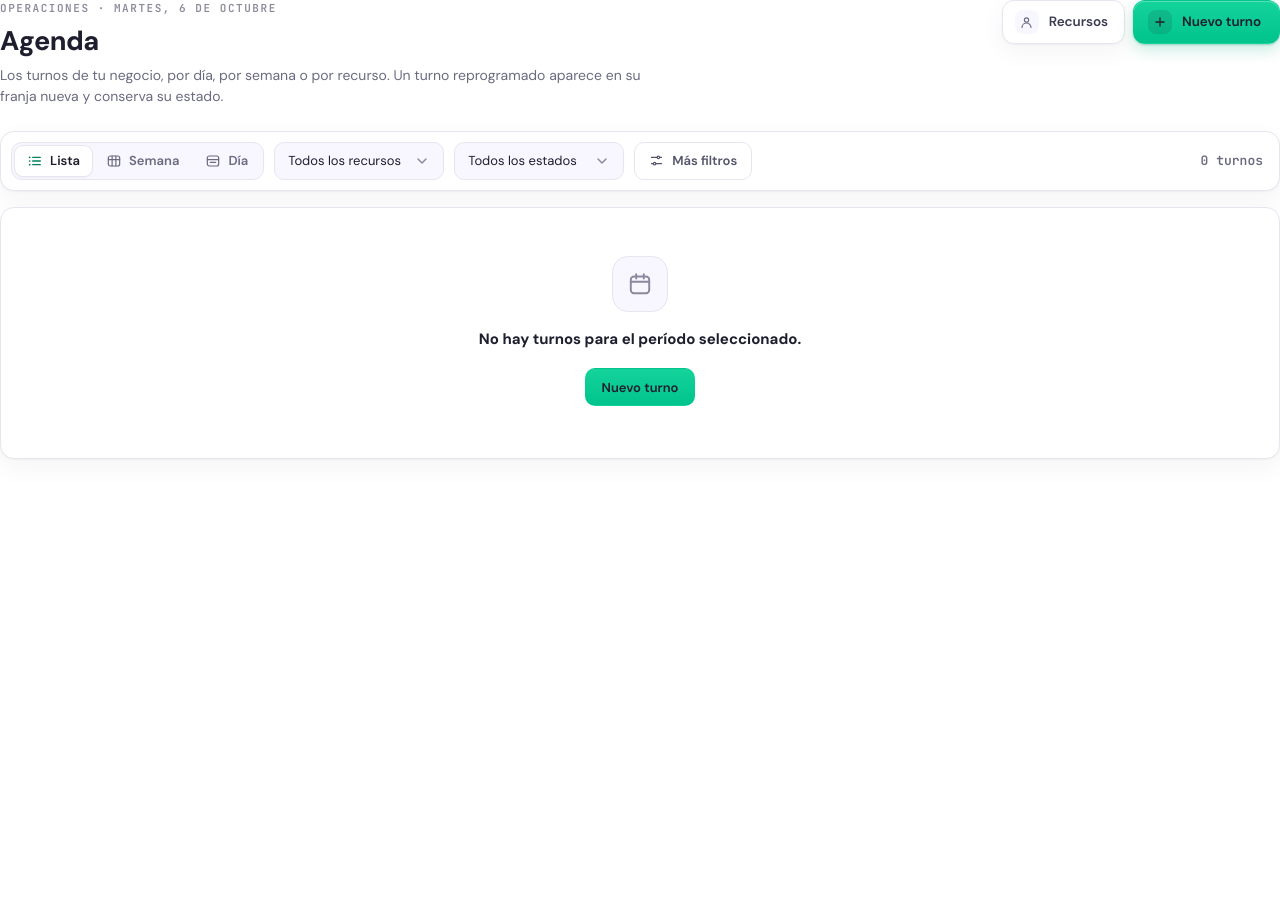
Agenda · vistas › cambia a Semana, pide el rango de la semana y posiciona cada bloque por hora y duración
Click the button "Semana". click: coordinates (143, 161)
box: [94, 146, 191, 176]
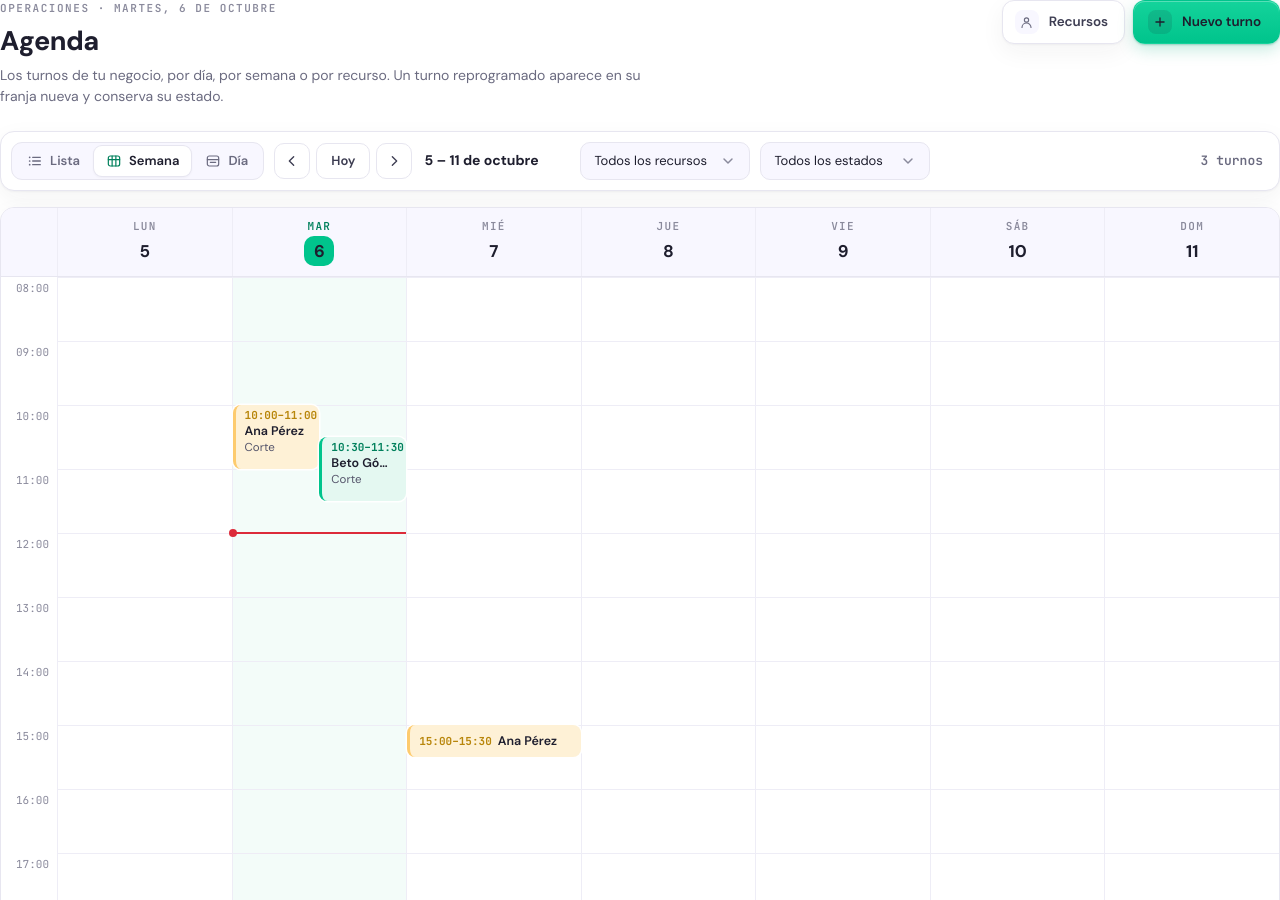
Now the text "5 – 11 de octubre" is shown, box [424, 151, 539, 169]
Now the element with test id "linea-de-ahora" is shown, box [233, 532, 406, 534]
